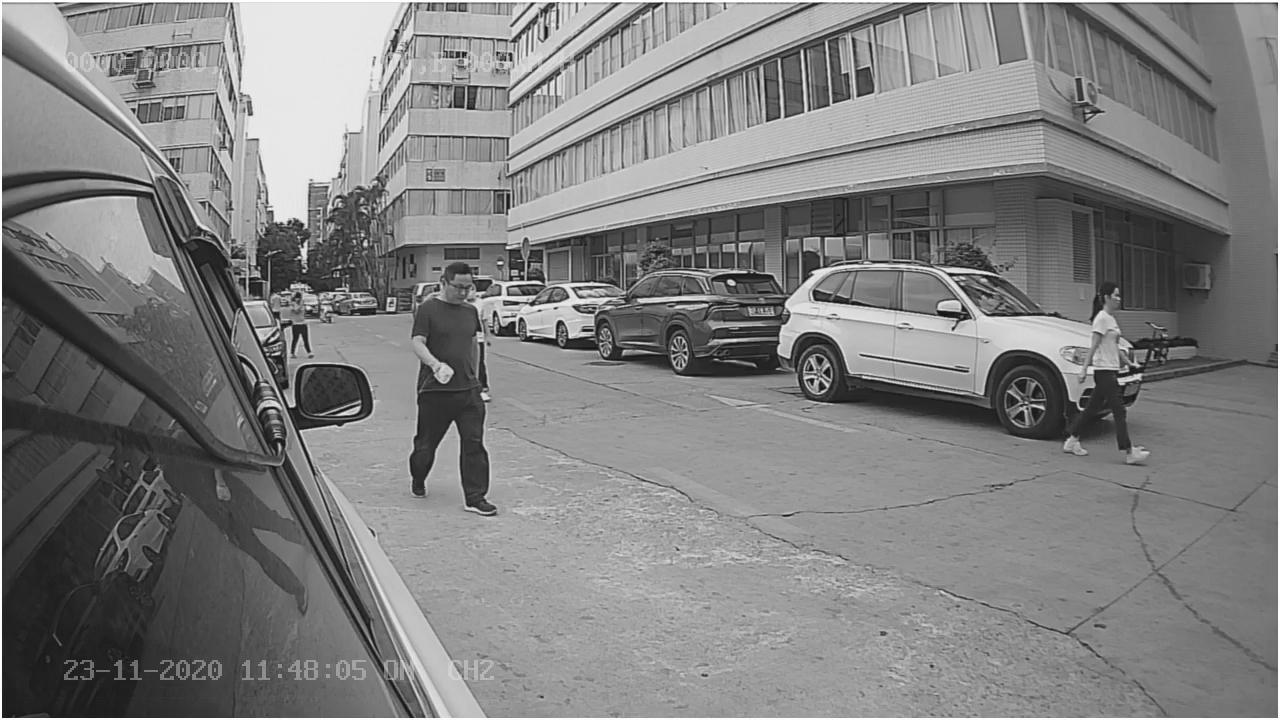person: (405, 254, 506, 513), (1061, 270, 1150, 467)
